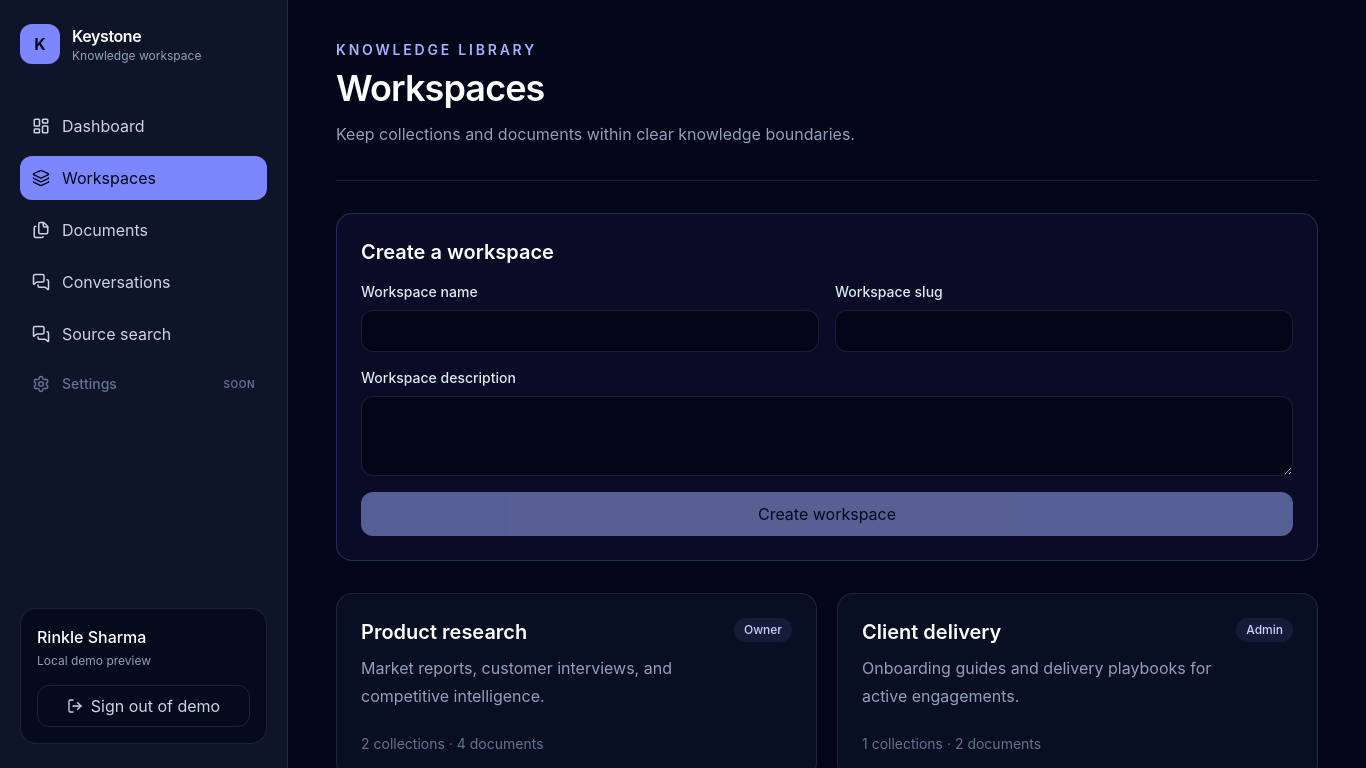
Test: workspace and collection routes › creates a workspace and navigates to it in API mode
In the field labelled "Workspace name": (590, 331) [361, 310, 819, 352], type "Release evidence"
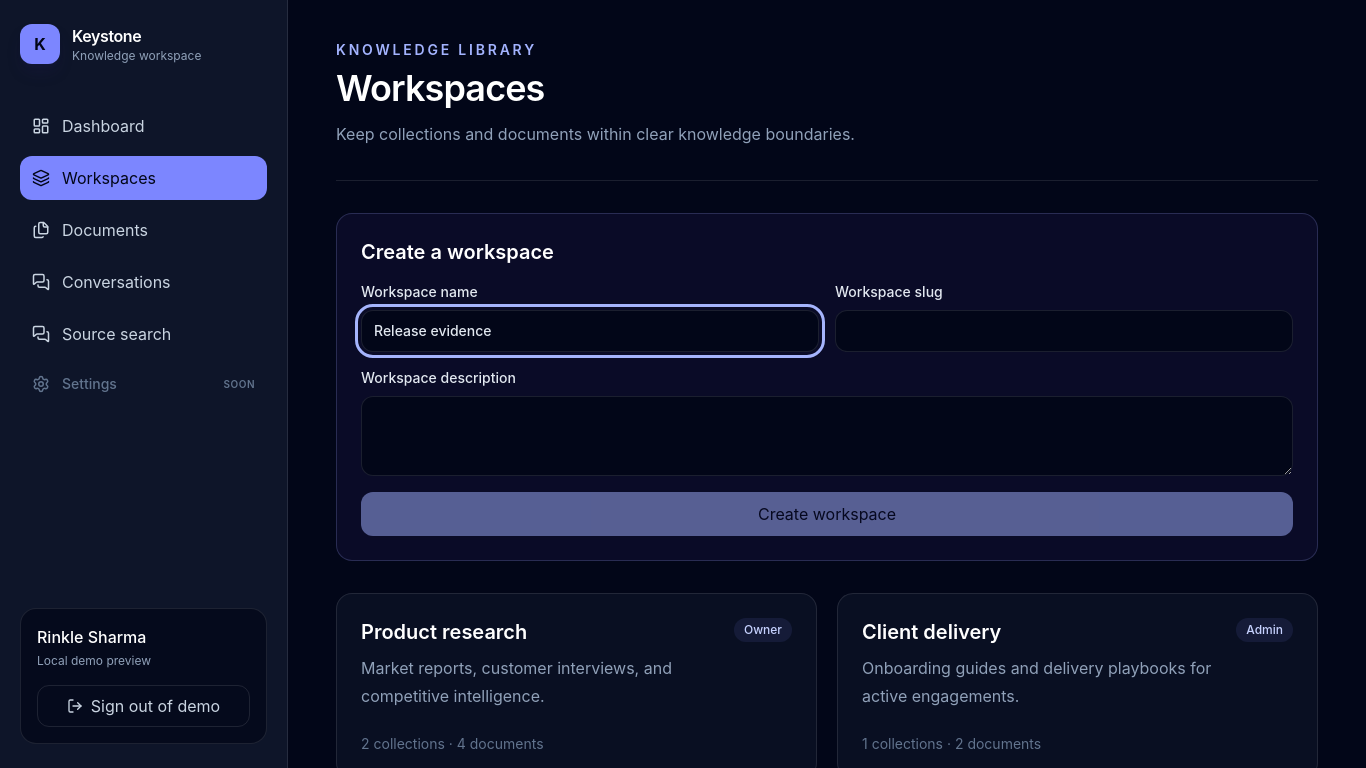
In the field labelled "Workspace slug": (1064, 331) [835, 310, 1293, 352], type "release-evidence"
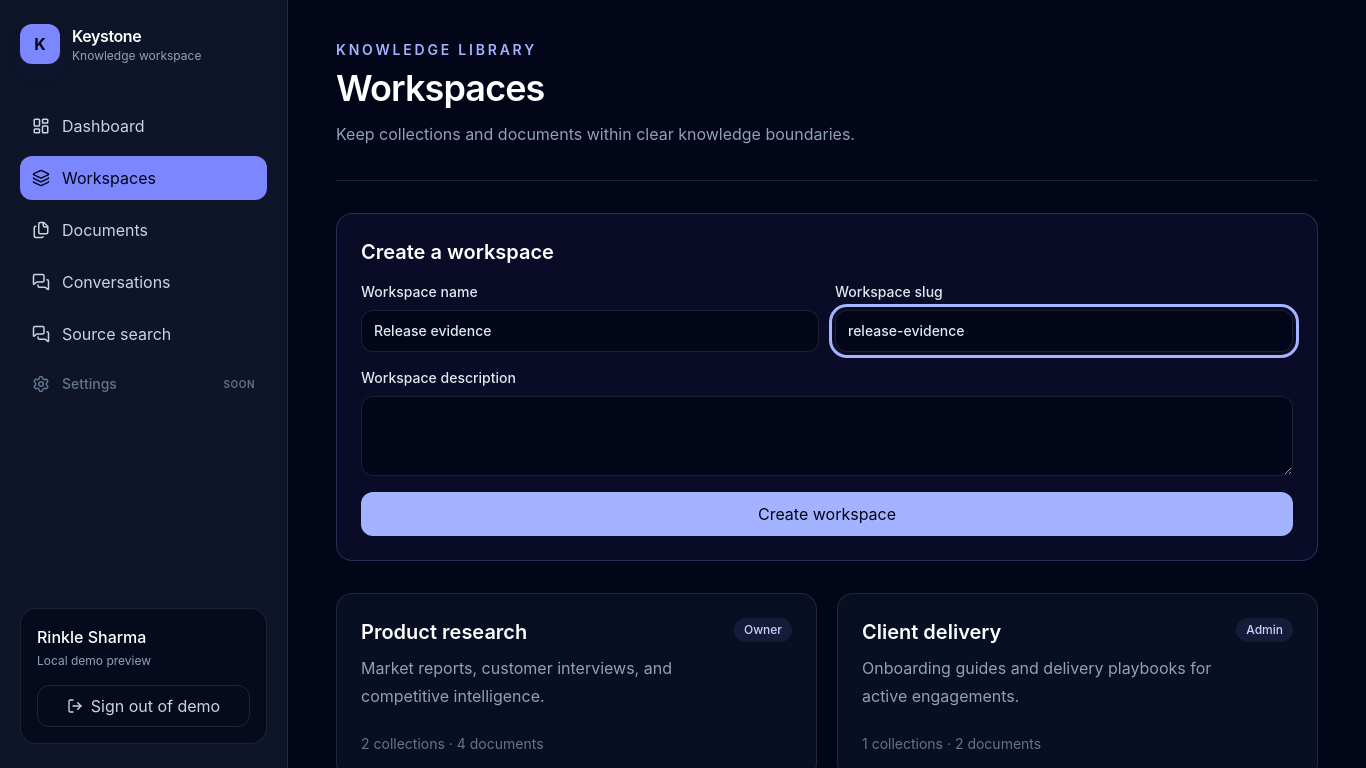
In the text box labelled "Workspace description": (827, 436) [361, 396, 1293, 476], type "Deterministic browser sources"
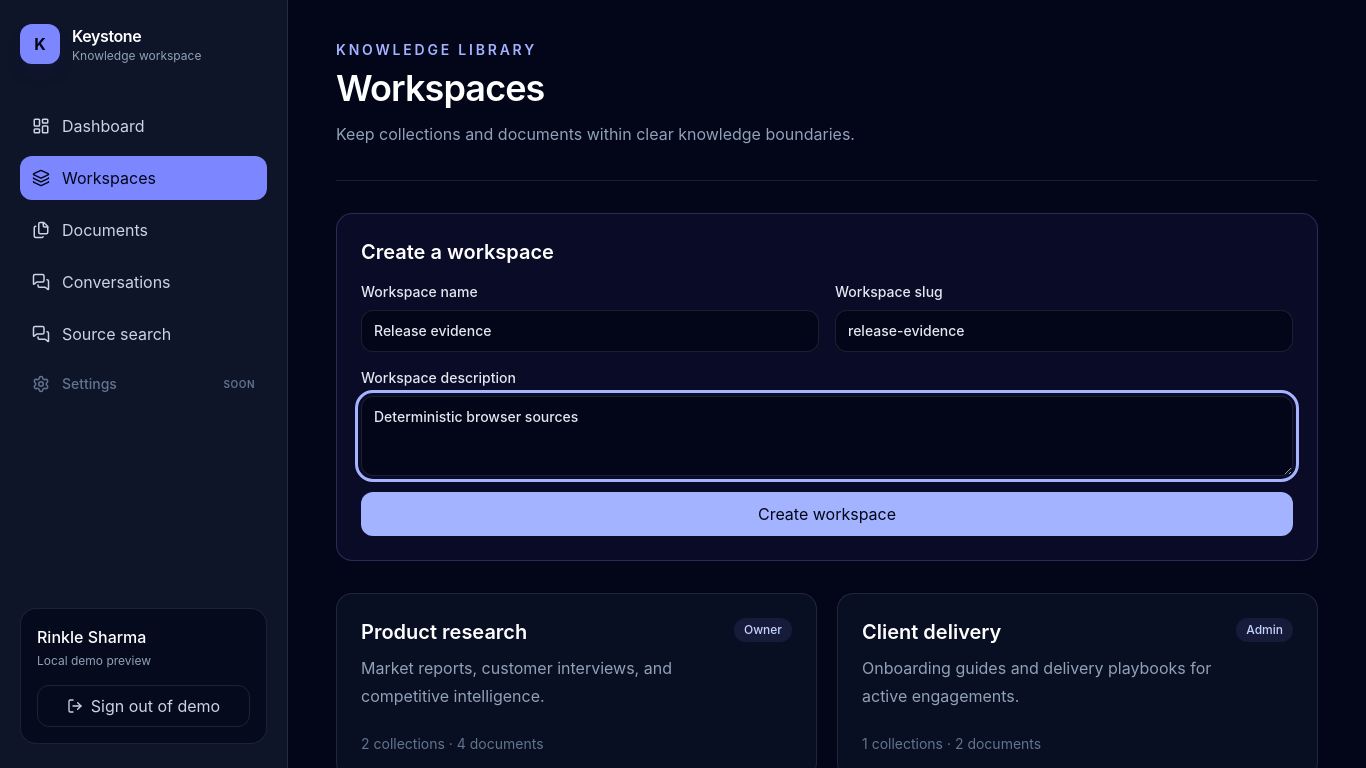
Click the button "Create workspace": (827, 514) [361, 492, 1293, 536]
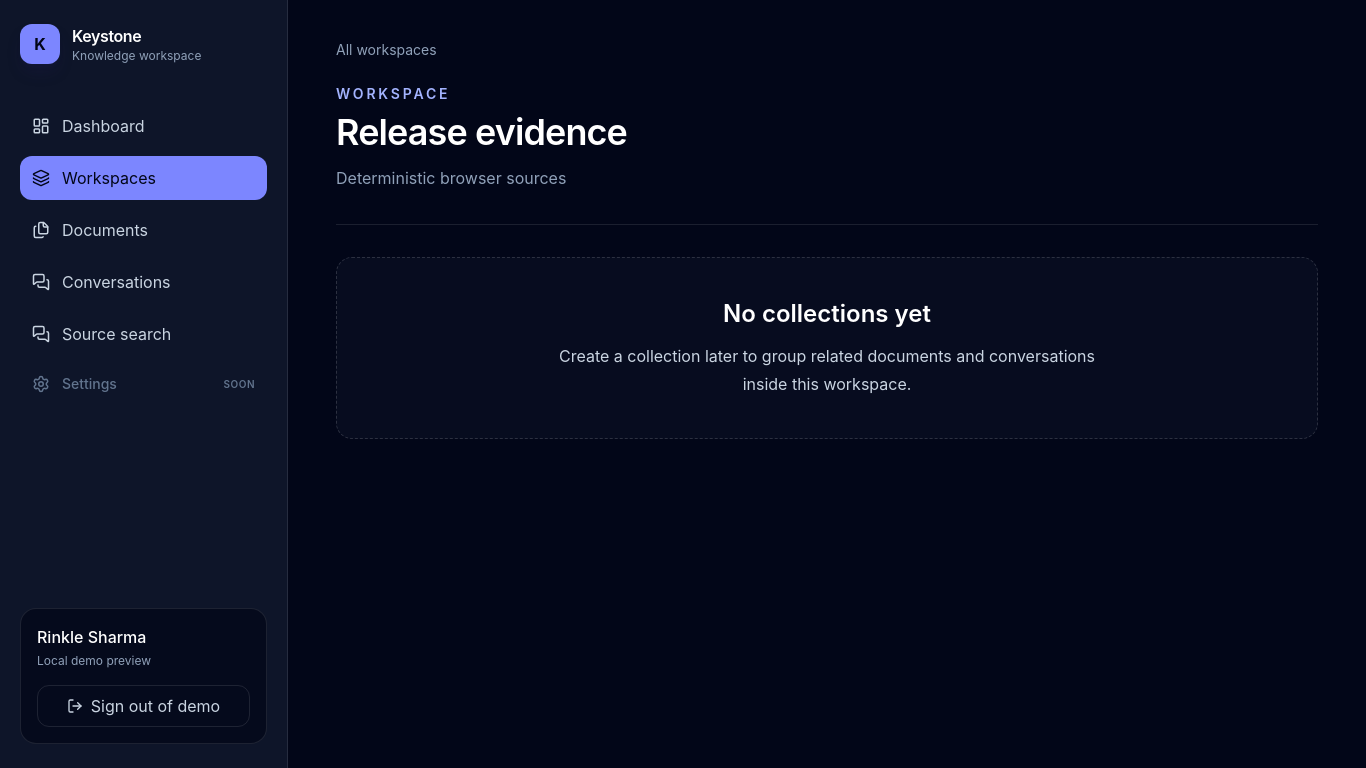
expect the heading "Release evidence" is shown: met, box [336, 112, 627, 152]
